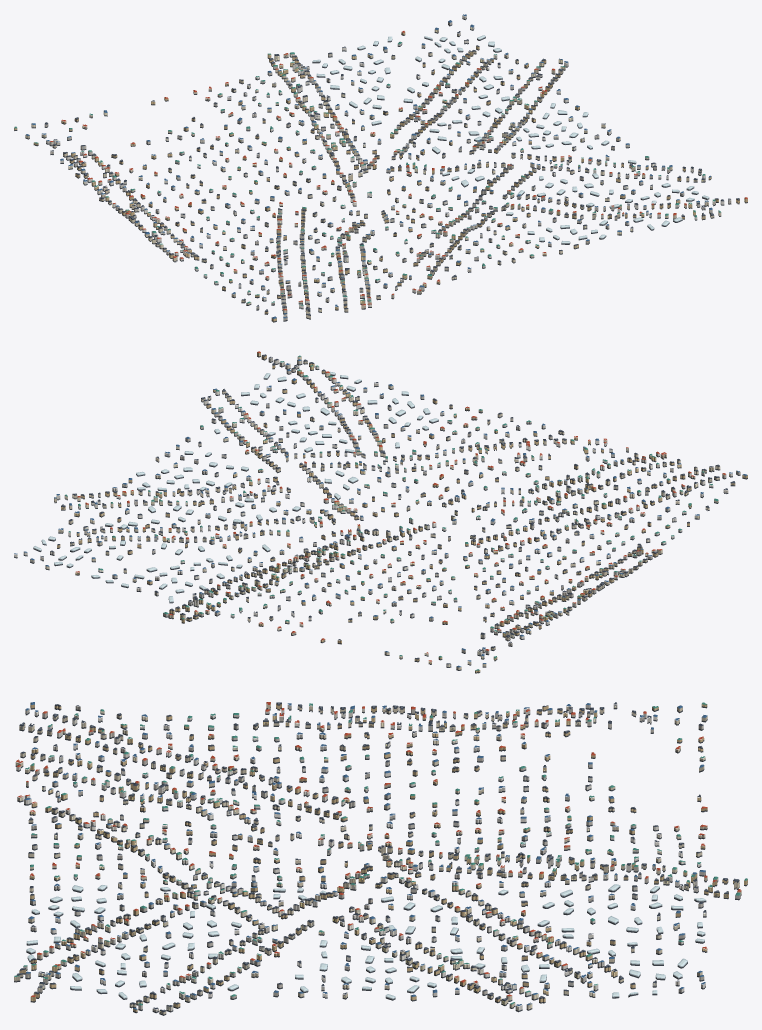
File: osm_buildings_T_E01_N01.glb
3 views of the same model, one above another, from view 1: azimuth 30°, elevation 25°; view 2: azimuth 150°, elevation 25°; view 3: azimuth 270°, elevation 25° (orthographic). The views are drawn at different scales.
Parts seen in each view (by area): view 1: OSM_T_E01_N01_foundation, OSM_T_E01_N01_wall_cream_stucco, OSM_T_E01_N01_wall_french_ochre, OSM_T_E01_N01_roof_mansard_slate, OSM_T_E01_N01_wall_warm_white, OSM_T_E01_N01_wall_pastel_sand, OSM_T_E01_N01_greenhouse_blend, OSM_T_E01_N01_roof_alpine_blue, OSM_T_E01_N01_roof_mint_metal, OSM_T_E01_N01_roof_terracotta, OSM_T_E01_N01_roof_mansard_deck; view 2: OSM_T_E01_N01_foundation, OSM_T_E01_N01_wall_cream_stucco, OSM_T_E01_N01_wall_french_ochre, OSM_T_E01_N01_roof_mansard_slate, OSM_T_E01_N01_wall_warm_white, OSM_T_E01_N01_wall_pastel_sand, OSM_T_E01_N01_greenhouse_blend, OSM_T_E01_N01_roof_alpine_blue, OSM_T_E01_N01_roof_mint_metal, OSM_T_E01_N01_roof_terracotta, OSM_T_E01_N01_roof_mansard_deck; view 3: OSM_T_E01_N01_foundation, OSM_T_E01_N01_wall_cream_stucco, OSM_T_E01_N01_wall_french_ochre, OSM_T_E01_N01_roof_mansard_slate, OSM_T_E01_N01_wall_warm_white, OSM_T_E01_N01_wall_pastel_sand, OSM_T_E01_N01_greenhouse_blend, OSM_T_E01_N01_roof_alpine_blue, OSM_T_E01_N01_roof_mint_metal, OSM_T_E01_N01_roof_terracotta, OSM_T_E01_N01_roof_mansard_deck.
Part boxes in pixels (x1,y1,x2,y2): OSM_T_E01_N01_foundation: (14,18,747,322); OSM_T_E01_N01_wall_cream_stucco: (25,29,721,318); OSM_T_E01_N01_wall_french_ochre: (14,32,747,321); OSM_T_E01_N01_roof_mansard_slate: (45,31,739,315); OSM_T_E01_N01_wall_warm_white: (46,15,724,316); OSM_T_E01_N01_wall_pastel_sand: (44,22,731,320); OSM_T_E01_N01_greenhouse_blend: (312,35,709,243); OSM_T_E01_N01_roof_alpine_blue: (26,14,712,318); OSM_T_E01_N01_roof_mint_metal: (14,41,720,305); OSM_T_E01_N01_roof_terracotta: (50,31,747,310); OSM_T_E01_N01_roof_mansard_deck: (54,50,739,314); OSM_T_E01_N01_foundation: (14,356,747,673); OSM_T_E01_N01_wall_cream_stucco: (45,356,720,669); OSM_T_E01_N01_wall_french_ochre: (57,352,747,672); OSM_T_E01_N01_roof_mansard_slate: (40,355,735,664); OSM_T_E01_N01_wall_warm_white: (14,360,732,658); OSM_T_E01_N01_wall_pastel_sand: (30,357,740,666); OSM_T_E01_N01_greenhouse_blend: (33,371,438,602); OSM_T_E01_N01_roof_alpine_blue: (14,359,747,667); OSM_T_E01_N01_roof_mint_metal: (65,355,718,670); OSM_T_E01_N01_roof_terracotta: (76,351,725,661); OSM_T_E01_N01_roof_mansard_deck: (62,354,734,658); OSM_T_E01_N01_foundation: (14,706,747,1015); OSM_T_E01_N01_wall_cream_stucco: (14,703,741,1014); OSM_T_E01_N01_wall_french_ochre: (19,703,747,1011); OSM_T_E01_N01_roof_mansard_slate: (16,702,739,1012); OSM_T_E01_N01_wall_warm_white: (16,704,706,1011); OSM_T_E01_N01_wall_pastel_sand: (25,704,740,1011); OSM_T_E01_N01_greenhouse_blend: (26,884,706,999); OSM_T_E01_N01_roof_alpine_blue: (24,702,707,1009); OSM_T_E01_N01_roof_mint_metal: (14,702,747,1005); OSM_T_E01_N01_roof_terracotta: (16,702,741,996); OSM_T_E01_N01_roof_mansard_deck: (17,702,738,1010).
Bounding box in the file's own units: 1980 × 89 × 1976.
